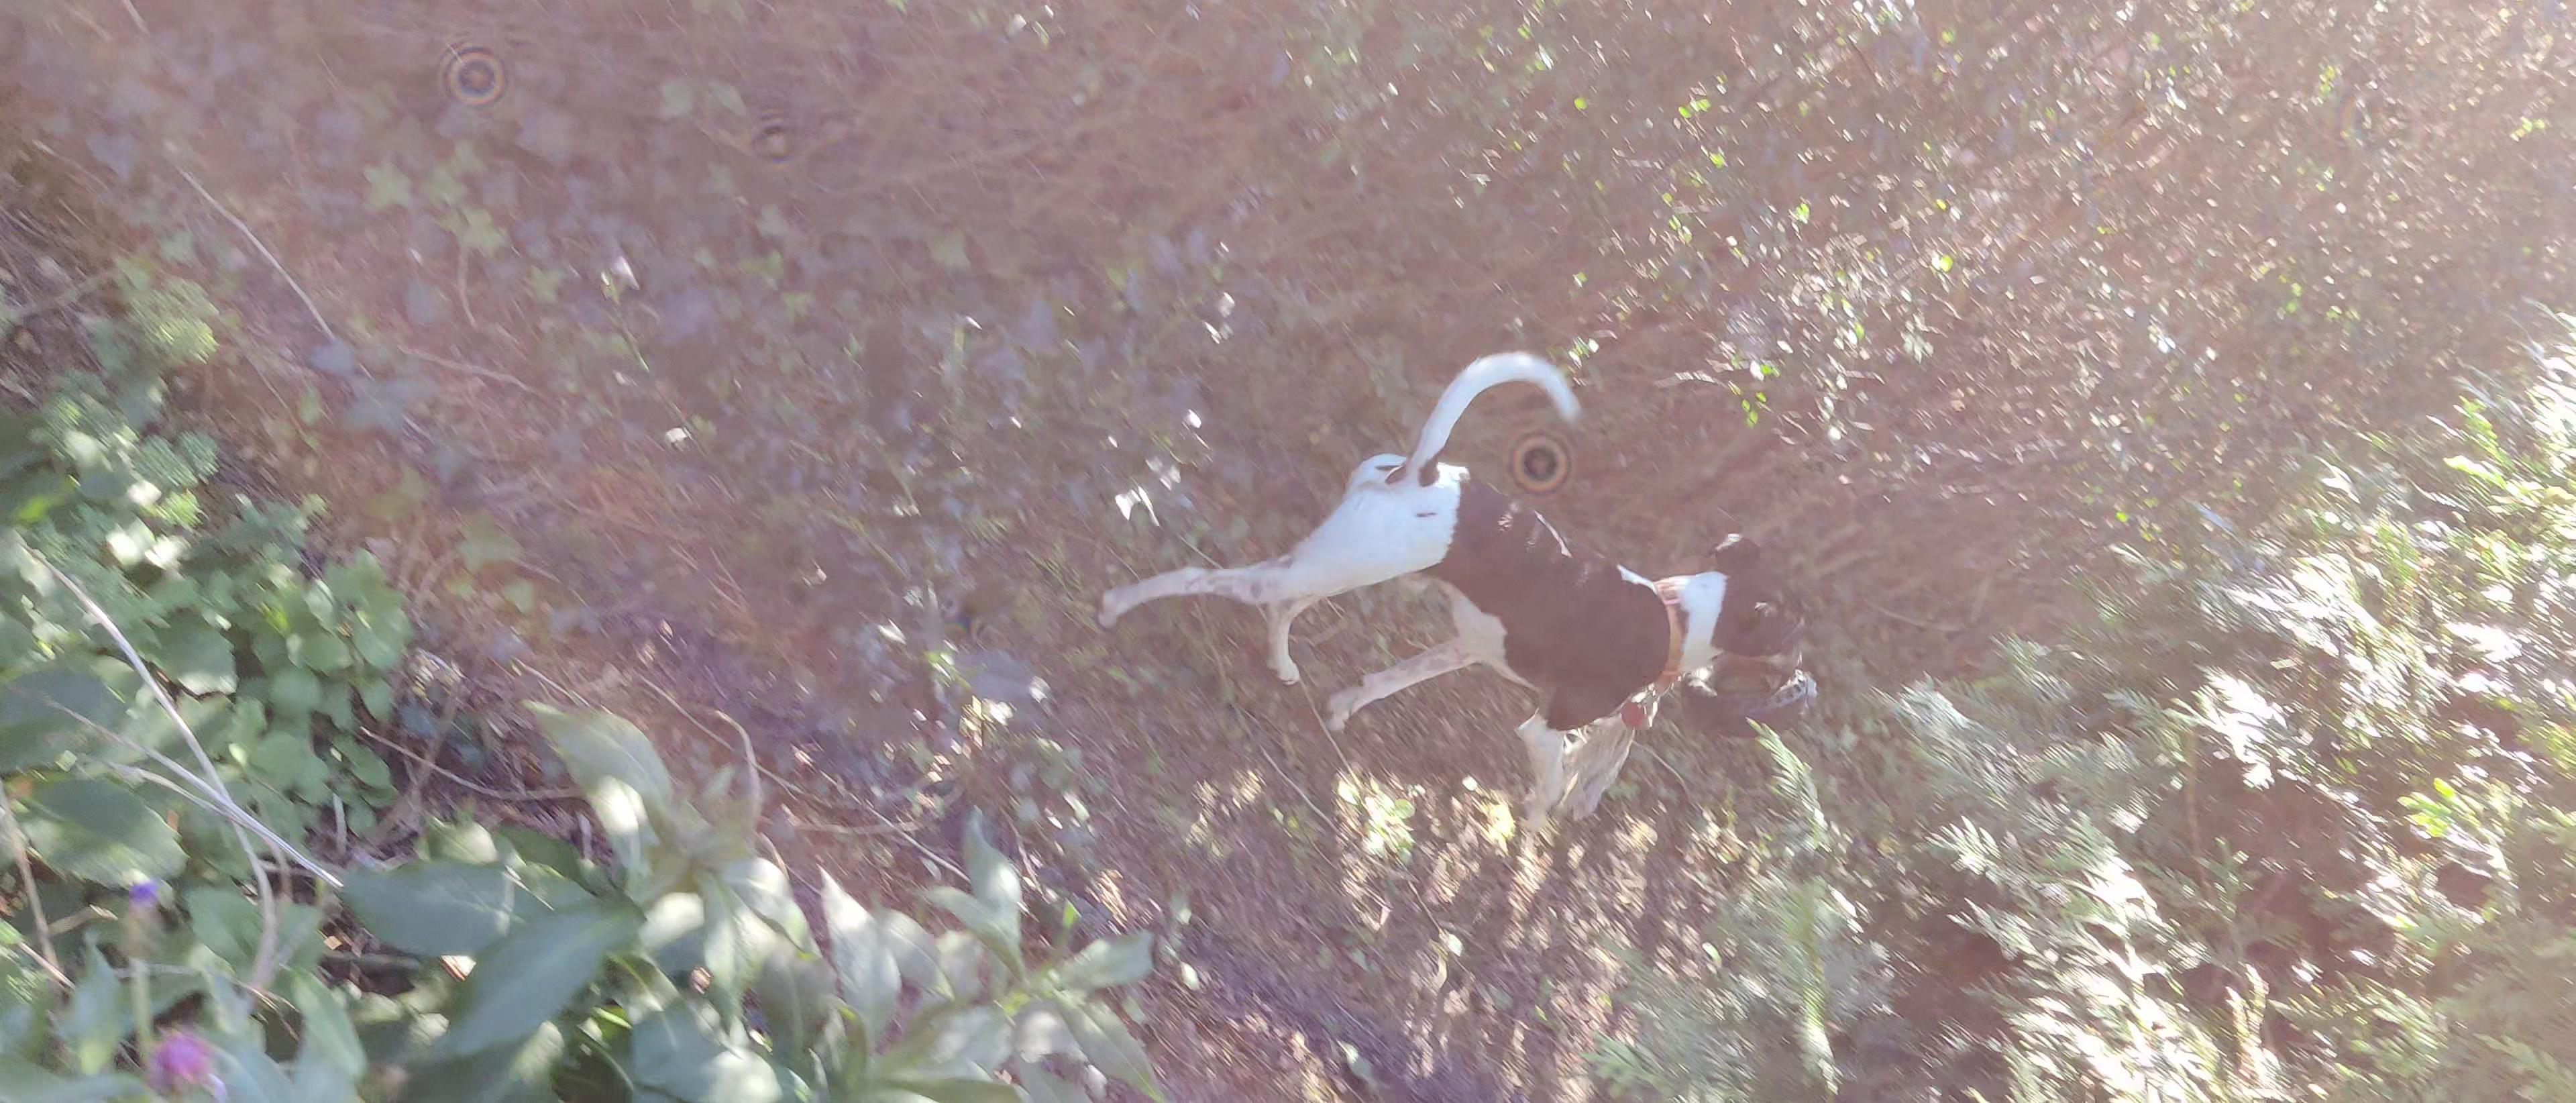Dog: (1084, 347, 1805, 837)
